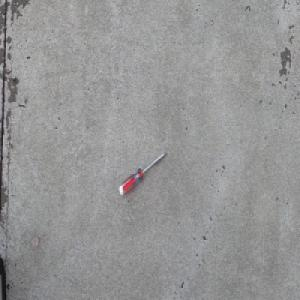Screwdriver: (118, 150, 167, 196)
